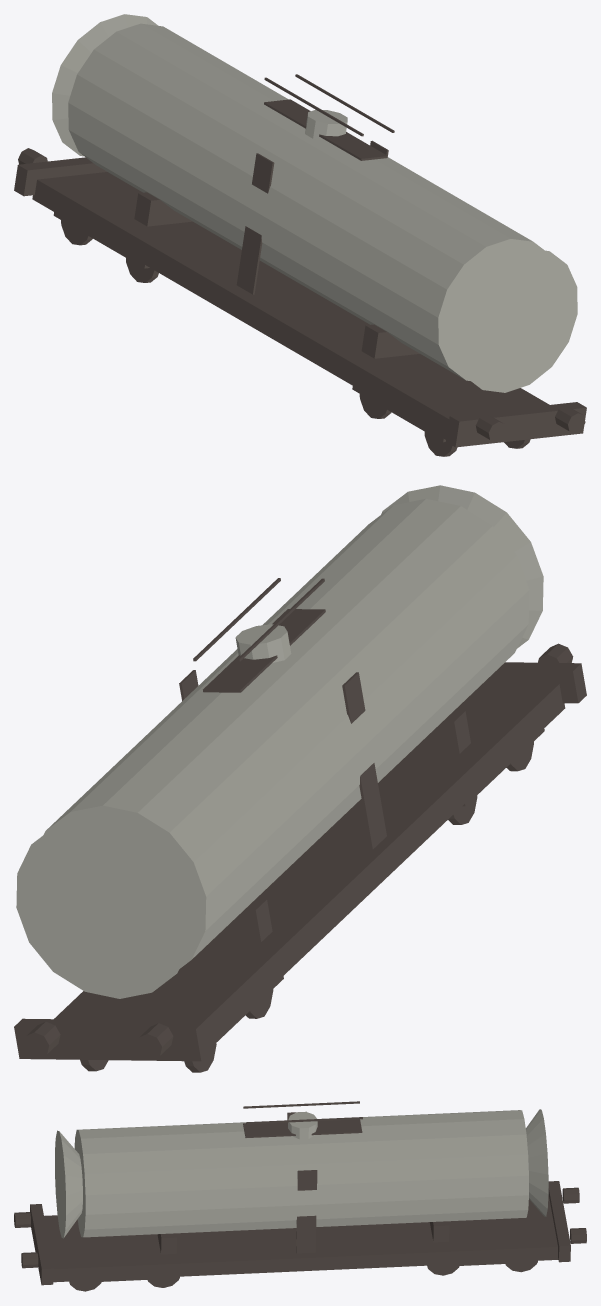
Rendered from SM_VagonAbandonado_v3_Descarrilado_LOD0.fbx.
3 views of the same model, one above another, from view 1: azimuth 30°, elevation 25°; view 2: azimuth 150°, elevation 25°; view 3: azimuth 270°, elevation 25° (orthographic). The views are drawn at different scales.
Parts seen in each view (by area): view 1: SM_vagon_abandonado_v3_LOD0; view 2: SM_vagon_abandonado_v3_LOD0; view 3: SM_vagon_abandonado_v3_LOD0.
Boxes of the visible parts, x1,y1,x2,y2 form: SM_vagon_abandonado_v3_LOD0: (14, 14, 586, 456); SM_vagon_abandonado_v3_LOD0: (14, 485, 586, 1072); SM_vagon_abandonado_v3_LOD0: (14, 1101, 586, 1291).
Bounding box in the file's own units: 4.51 × 4.82 × 14.65.
